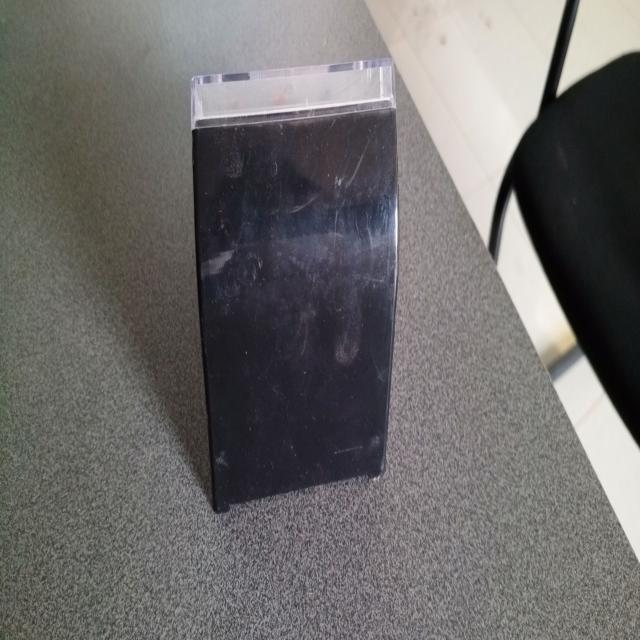Ammeter Analog: (184, 52, 405, 509)
